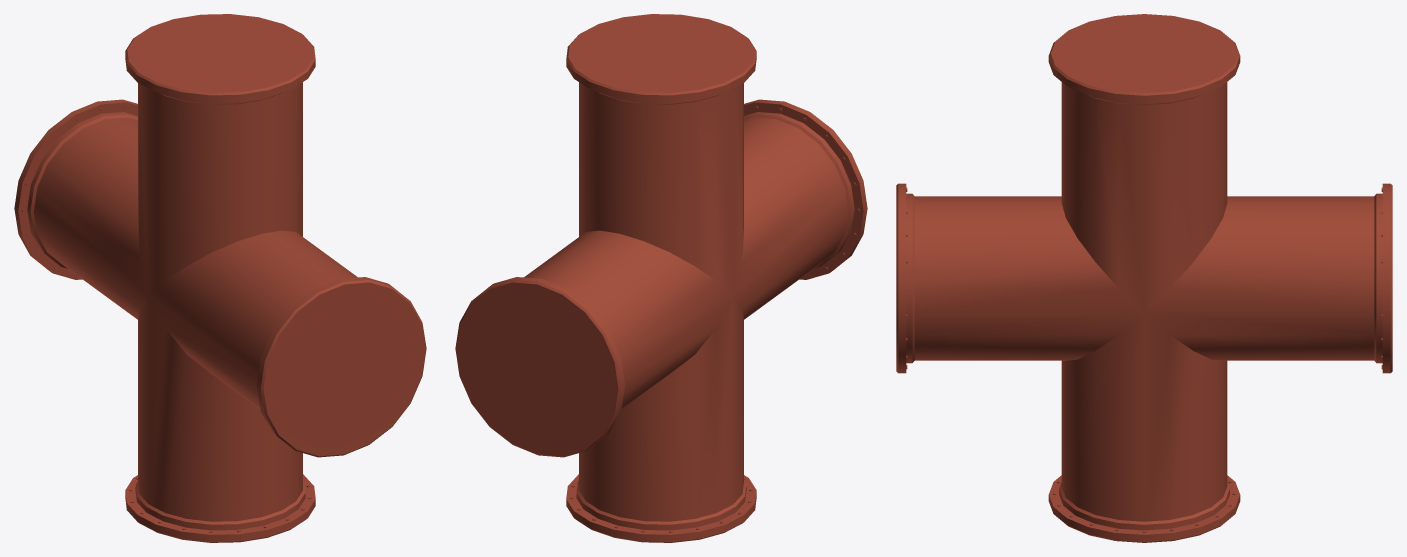
The model's file is Pipe_X.fbx.
3 views of the same model, side by side, from view 1: azimuth 30°, elevation 25°; view 2: azimuth 150°, elevation 25°; view 3: azimuth 270°, elevation 25° (orthographic).
Visible parts, largest first — view 1: Pipe_X2; view 2: Pipe_X2; view 3: Pipe_X2.
Part boxes in pixels (x1,y1,x2,y2): Pipe_X2: [14, 14, 426, 542]; Pipe_X2: [455, 14, 867, 542]; Pipe_X2: [896, 14, 1392, 542].
Size of the model in its own units: 0.5785 by 1.5 by 1.5.
